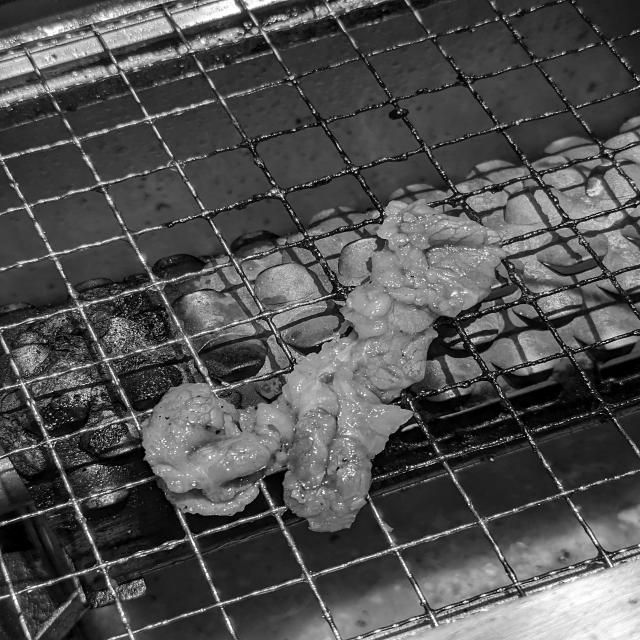OK cooked beef,: (129, 168, 527, 545)
